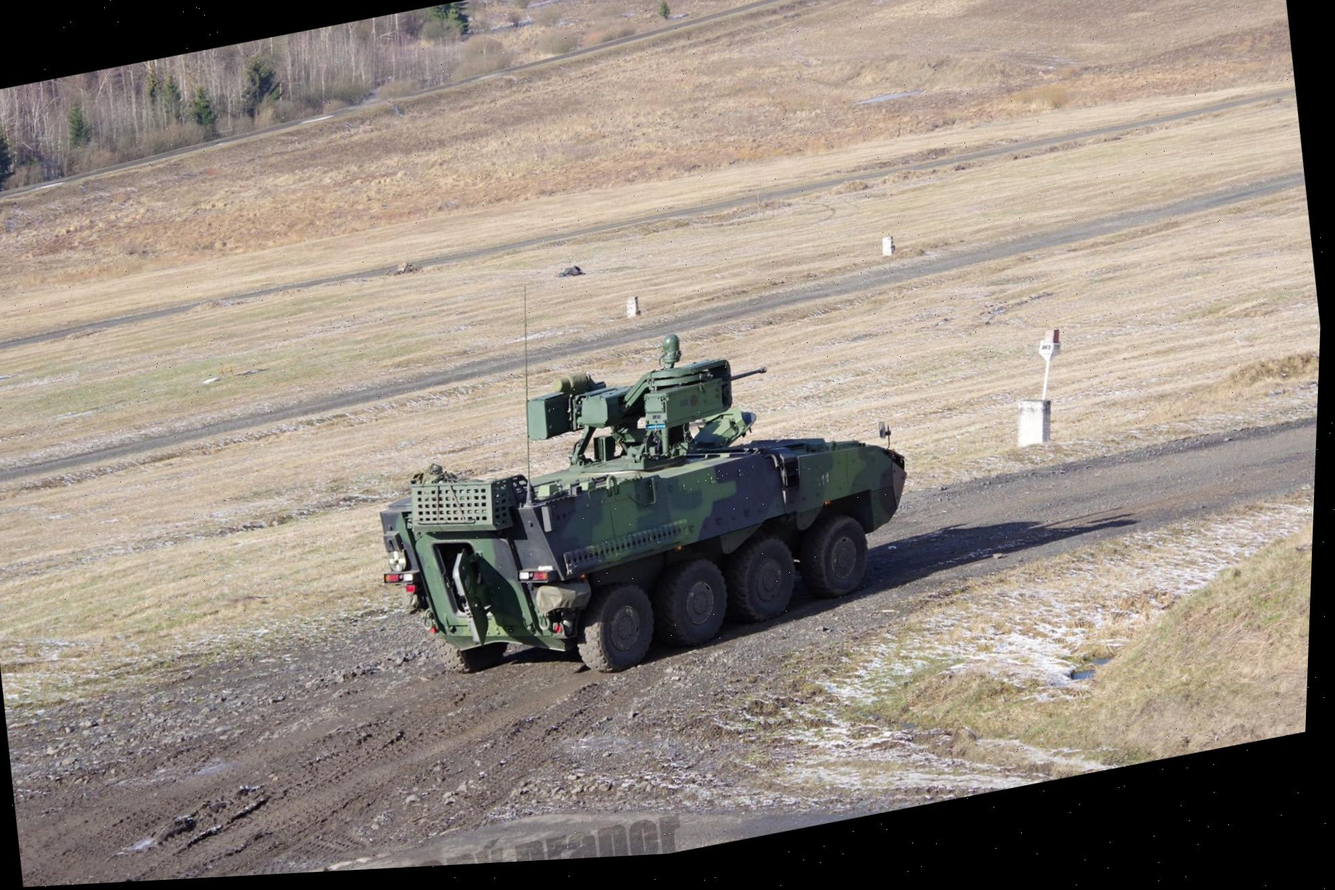armored_car: (355, 278, 939, 718)
